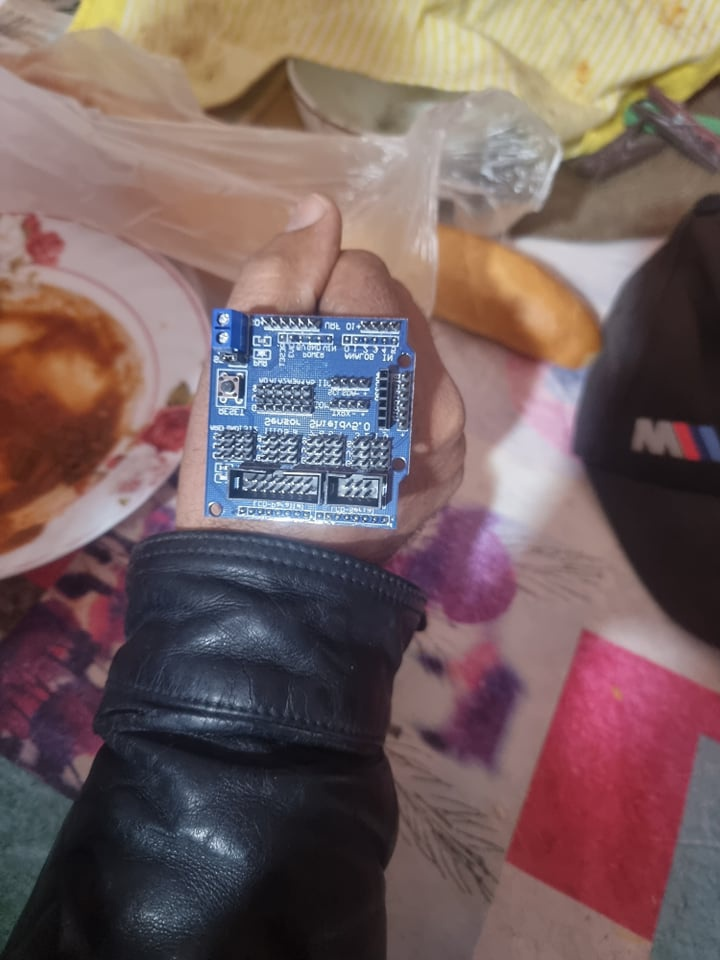5V EXPANSION: (203, 306, 418, 520)
